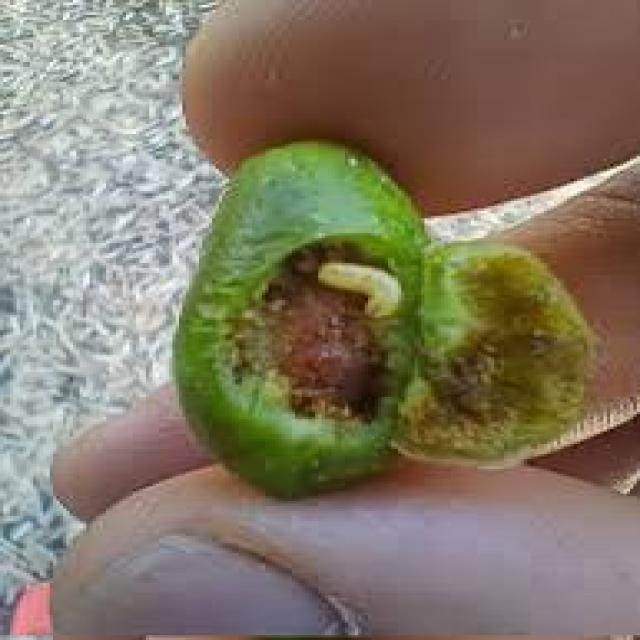Anthracnose: (175, 142, 590, 494)
